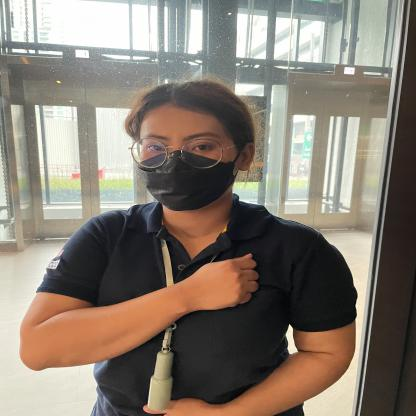Sadness: (132, 224, 298, 349)
